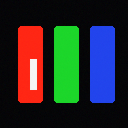4 line_v: (30, 59, 36, 89)
